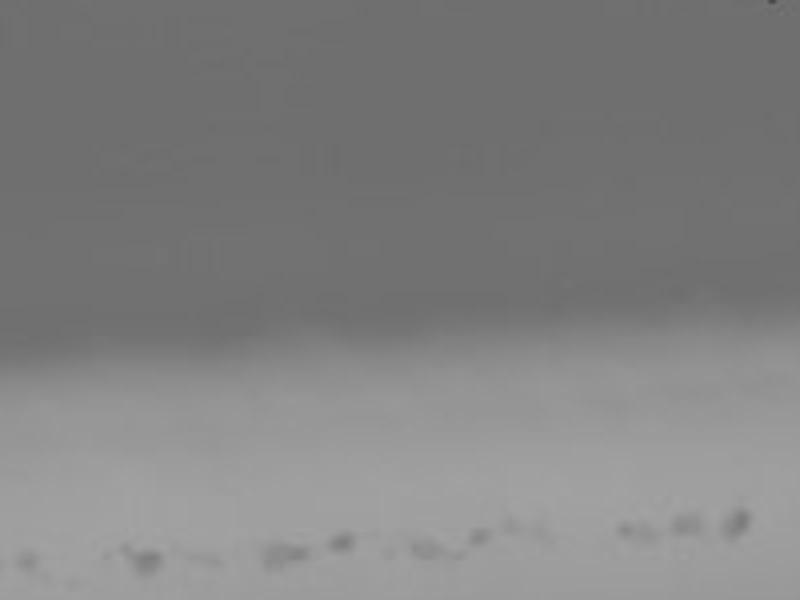defect: (717, 500, 753, 548), (257, 537, 309, 570), (616, 518, 662, 548), (413, 533, 446, 561), (133, 549, 161, 578), (671, 506, 701, 533), (187, 544, 225, 564), (329, 531, 353, 554), (467, 525, 491, 547), (499, 510, 519, 534), (14, 551, 39, 569), (377, 543, 399, 560), (444, 547, 467, 563), (115, 541, 133, 553), (98, 547, 110, 561)
